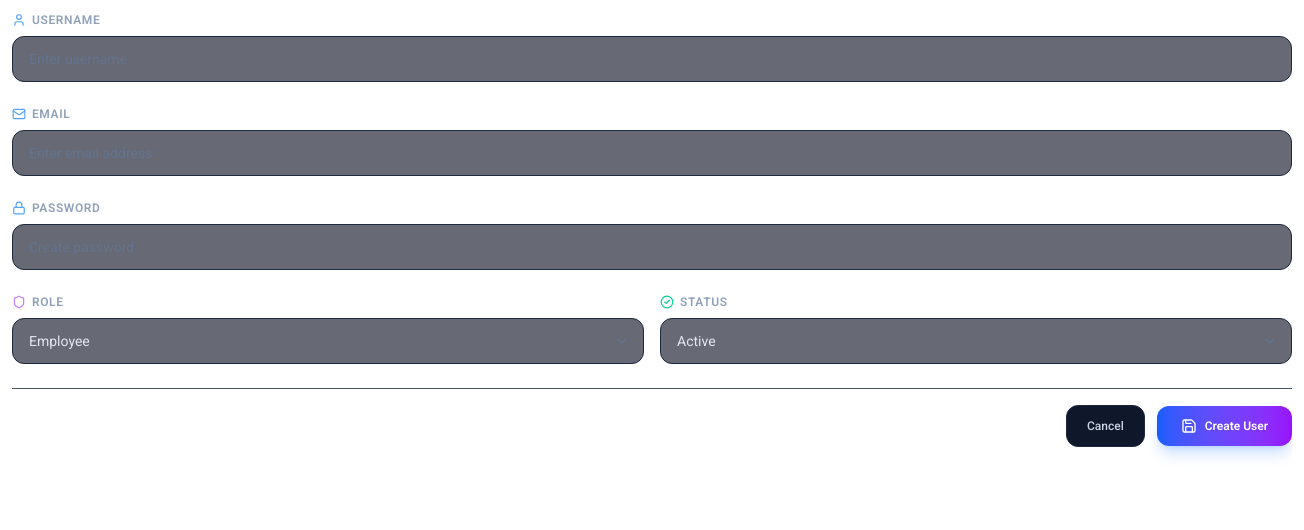
Test case: create user › will not create a user and give error
The image size is (1304, 530).
Type "mk" into the field with placeholder "Enter username" at (652, 59), box x1=12 y1=36 x2=1292 y2=82
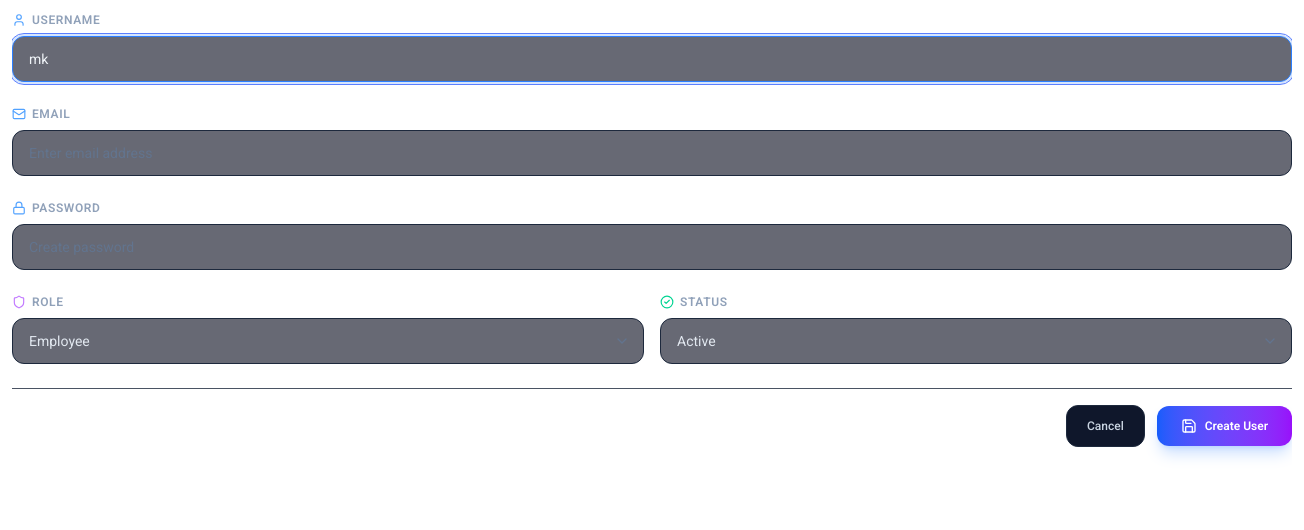
Type "mk@gmail.com" into the field with placeholder "Enter email address" at (652, 153), box x1=12 y1=130 x2=1292 y2=176
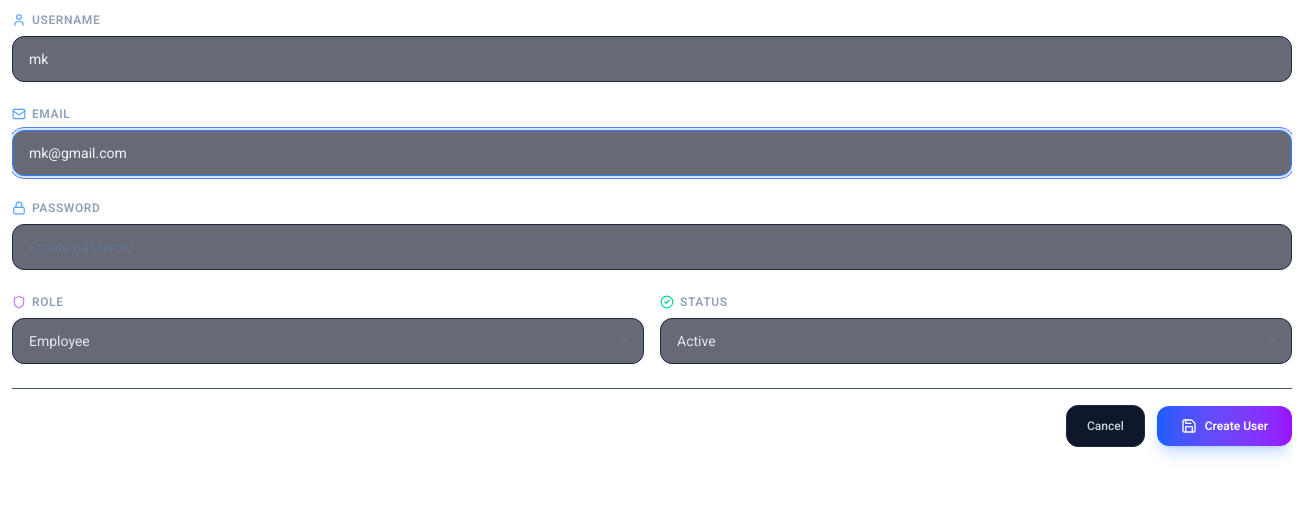
Type "1234" into the password field with placeholder "Create password" at (652, 247), box x1=12 y1=224 x2=1292 y2=270
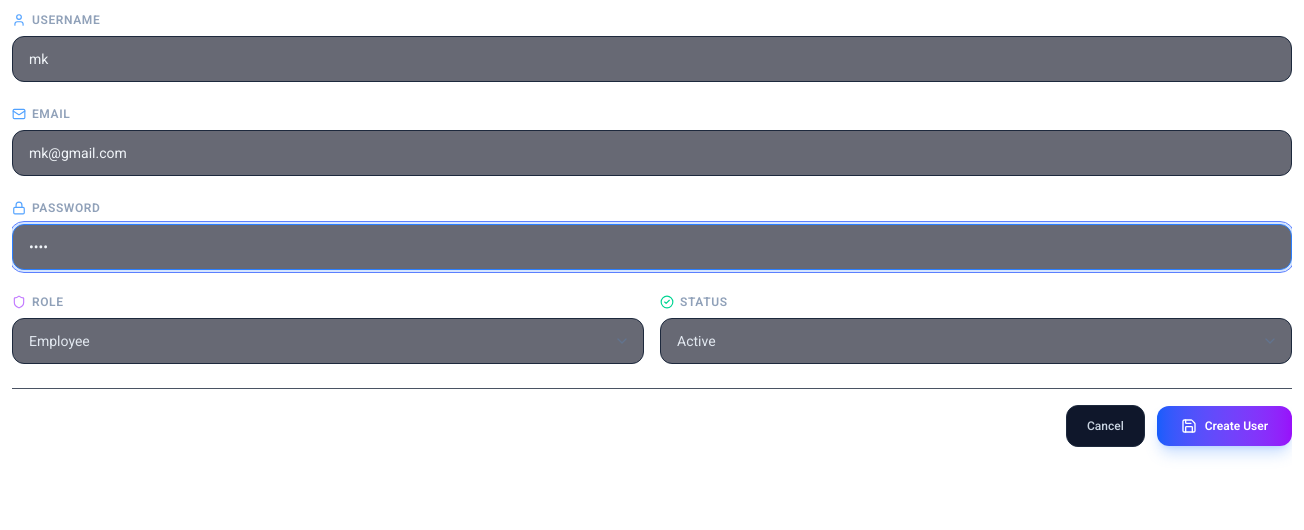
Click the button "Create User" at (1224, 426), box x1=1157 y1=406 x2=1292 y2=446
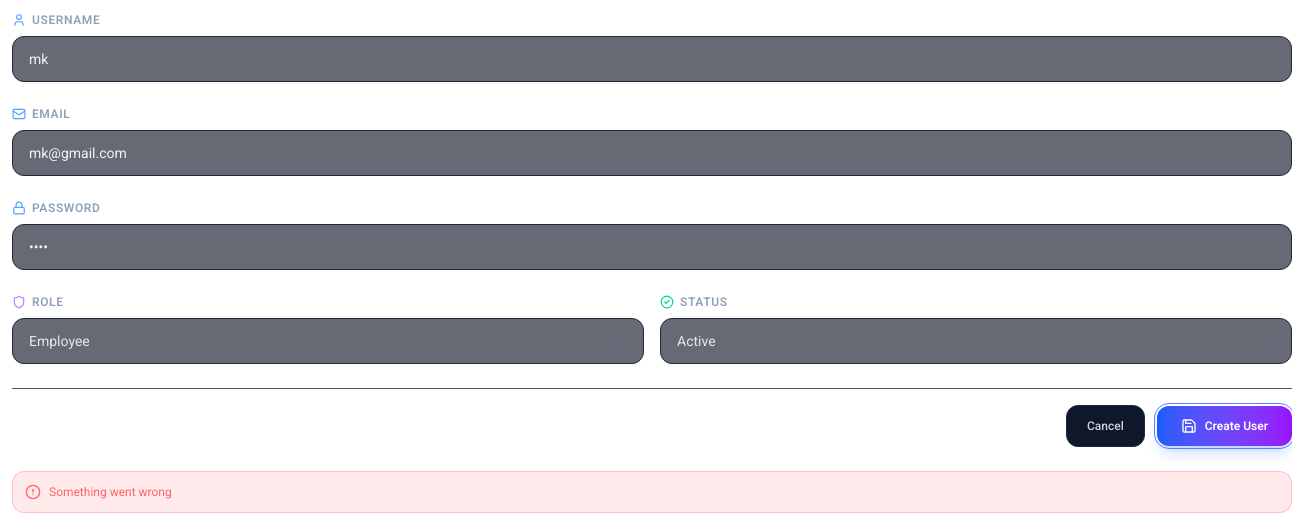
Result: the text "Something went wrong" is shown at x1=49 y1=484 x2=172 y2=500
